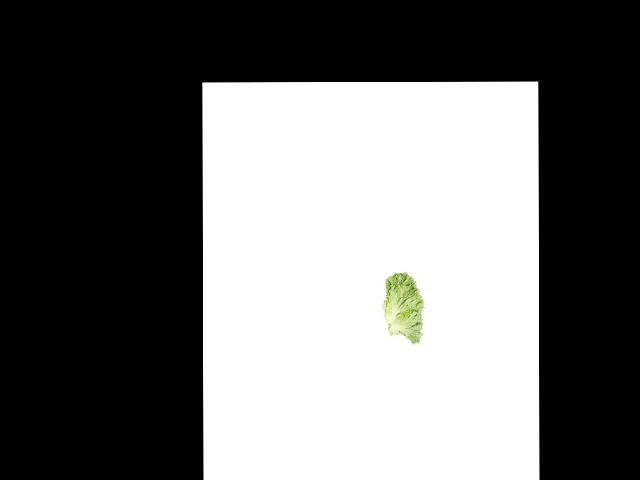lettuce: (379, 271, 429, 343)
